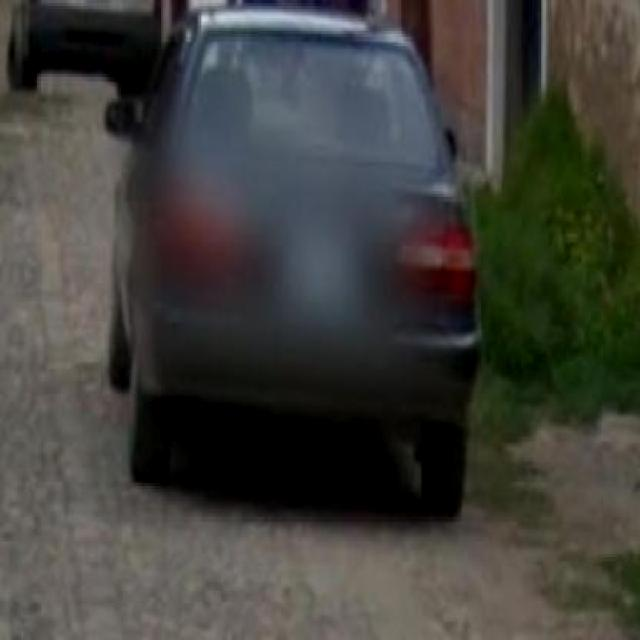car: (122, 19, 488, 516)
